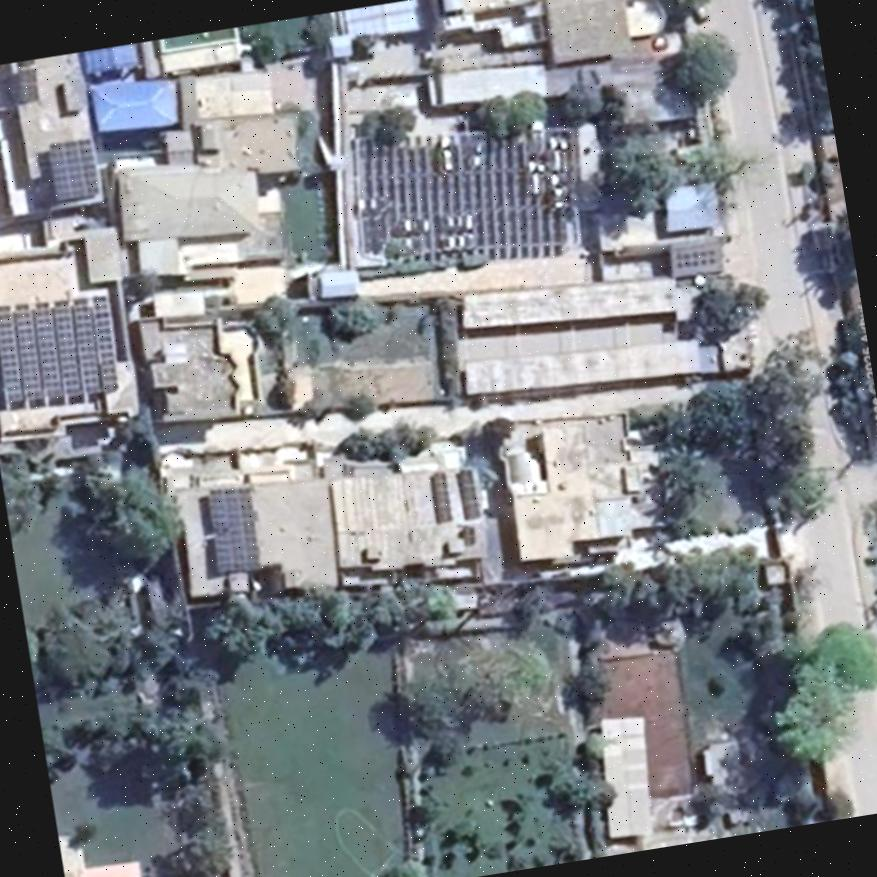Solarpanel: (0, 296, 118, 399), (208, 487, 261, 570), (48, 138, 98, 195), (456, 469, 479, 519), (14, 60, 36, 103), (430, 473, 450, 520)
